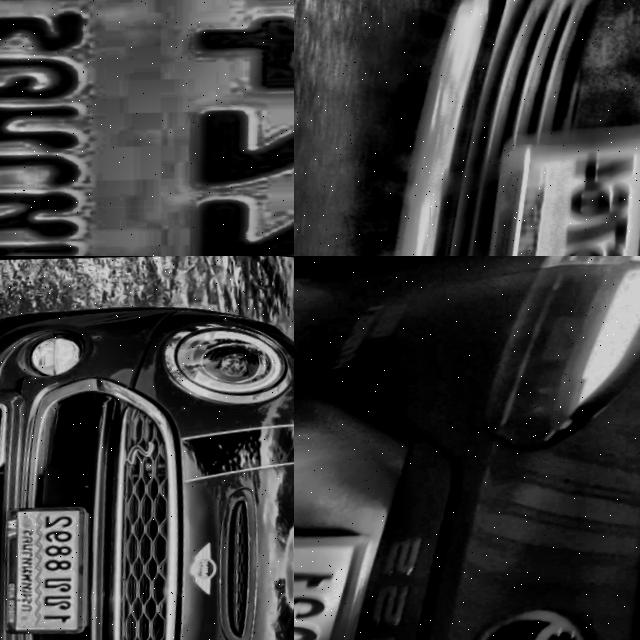license-plate: (0, 0, 294, 256), (447, 98, 640, 256), (0, 493, 113, 639)
